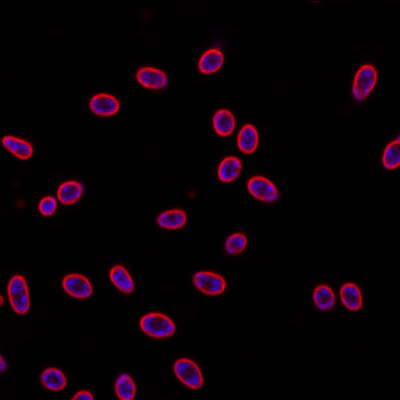Mecillinam: (139, 312, 176, 338), (174, 357, 203, 390), (7, 274, 30, 315), (193, 270, 226, 296), (108, 265, 135, 295), (63, 272, 92, 299), (2, 135, 33, 160), (198, 48, 226, 75), (90, 93, 120, 118), (211, 107, 236, 137), (340, 281, 362, 312), (237, 124, 259, 155), (216, 156, 242, 182), (40, 368, 66, 391), (38, 196, 57, 216)
Oblique: (351, 63, 379, 102), (247, 175, 279, 204), (136, 66, 168, 90), (155, 208, 187, 230), (57, 181, 84, 205), (313, 284, 336, 312), (224, 233, 249, 256), (115, 374, 135, 400)
